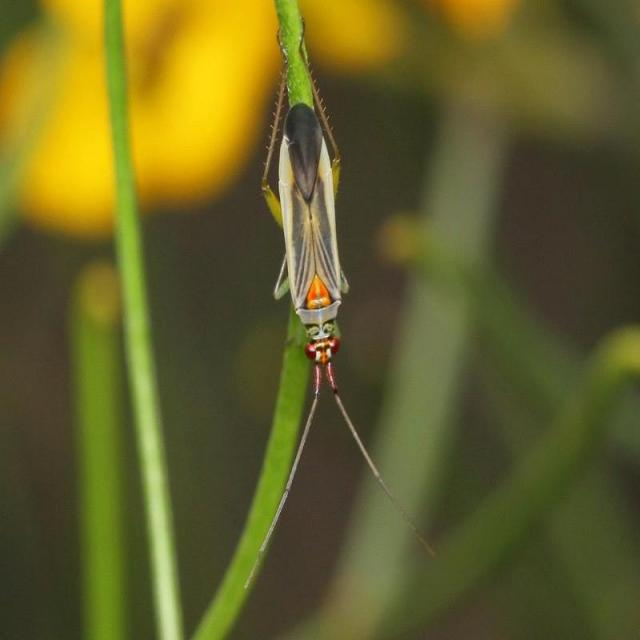Miridae-Adult-: (244, 14, 441, 573)
